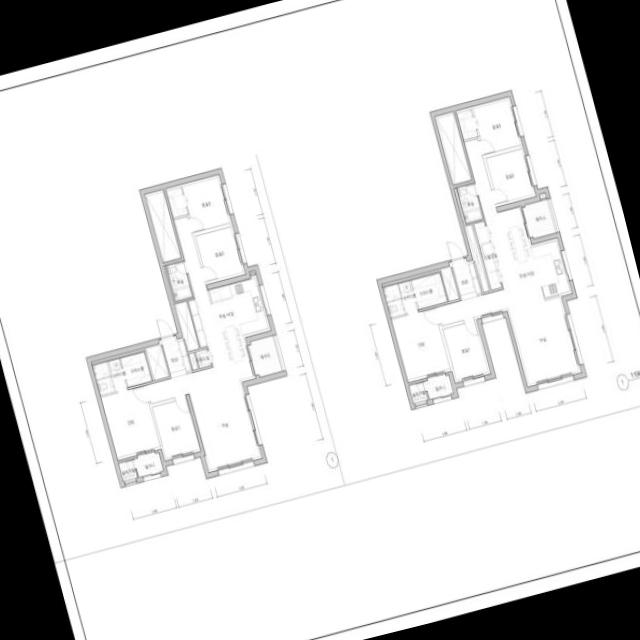background: (0, 0, 640, 640)
space_balconi: (424, 373, 453, 399), (133, 451, 162, 476)
space_bedroom: (390, 307, 450, 382), (100, 385, 160, 460), (455, 96, 521, 154), (165, 174, 231, 232), (152, 397, 200, 460), (442, 320, 490, 382), (194, 225, 245, 283), (485, 147, 535, 206)
space_dressroom: (398, 272, 447, 313), (107, 351, 151, 390)
space_front: (158, 335, 191, 377), (449, 257, 481, 300)
space_kitchen: (497, 205, 571, 297), (208, 274, 270, 383)
space_living_room: (436, 138, 581, 386), (146, 216, 261, 472)
space_multipurpose_space: (473, 221, 501, 289), (194, 348, 210, 368)
space_other: (434, 111, 471, 184), (144, 189, 180, 262), (463, 224, 489, 291), (173, 300, 198, 351), (144, 343, 168, 380), (439, 265, 459, 301), (188, 351, 197, 369), (539, 192, 546, 198), (248, 270, 255, 273)
space_outdoor_room: (408, 381, 427, 403), (118, 459, 137, 481)
space_toilet: (165, 260, 192, 301), (456, 182, 482, 223), (91, 361, 114, 395), (382, 283, 404, 317)
